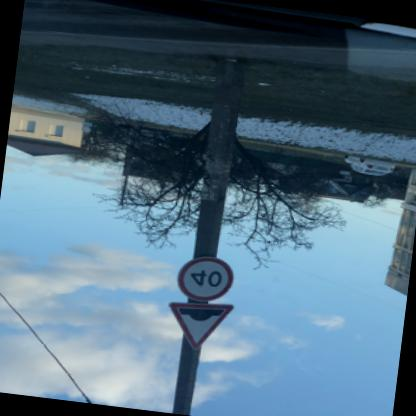speedlimit: (172, 254, 233, 307)
